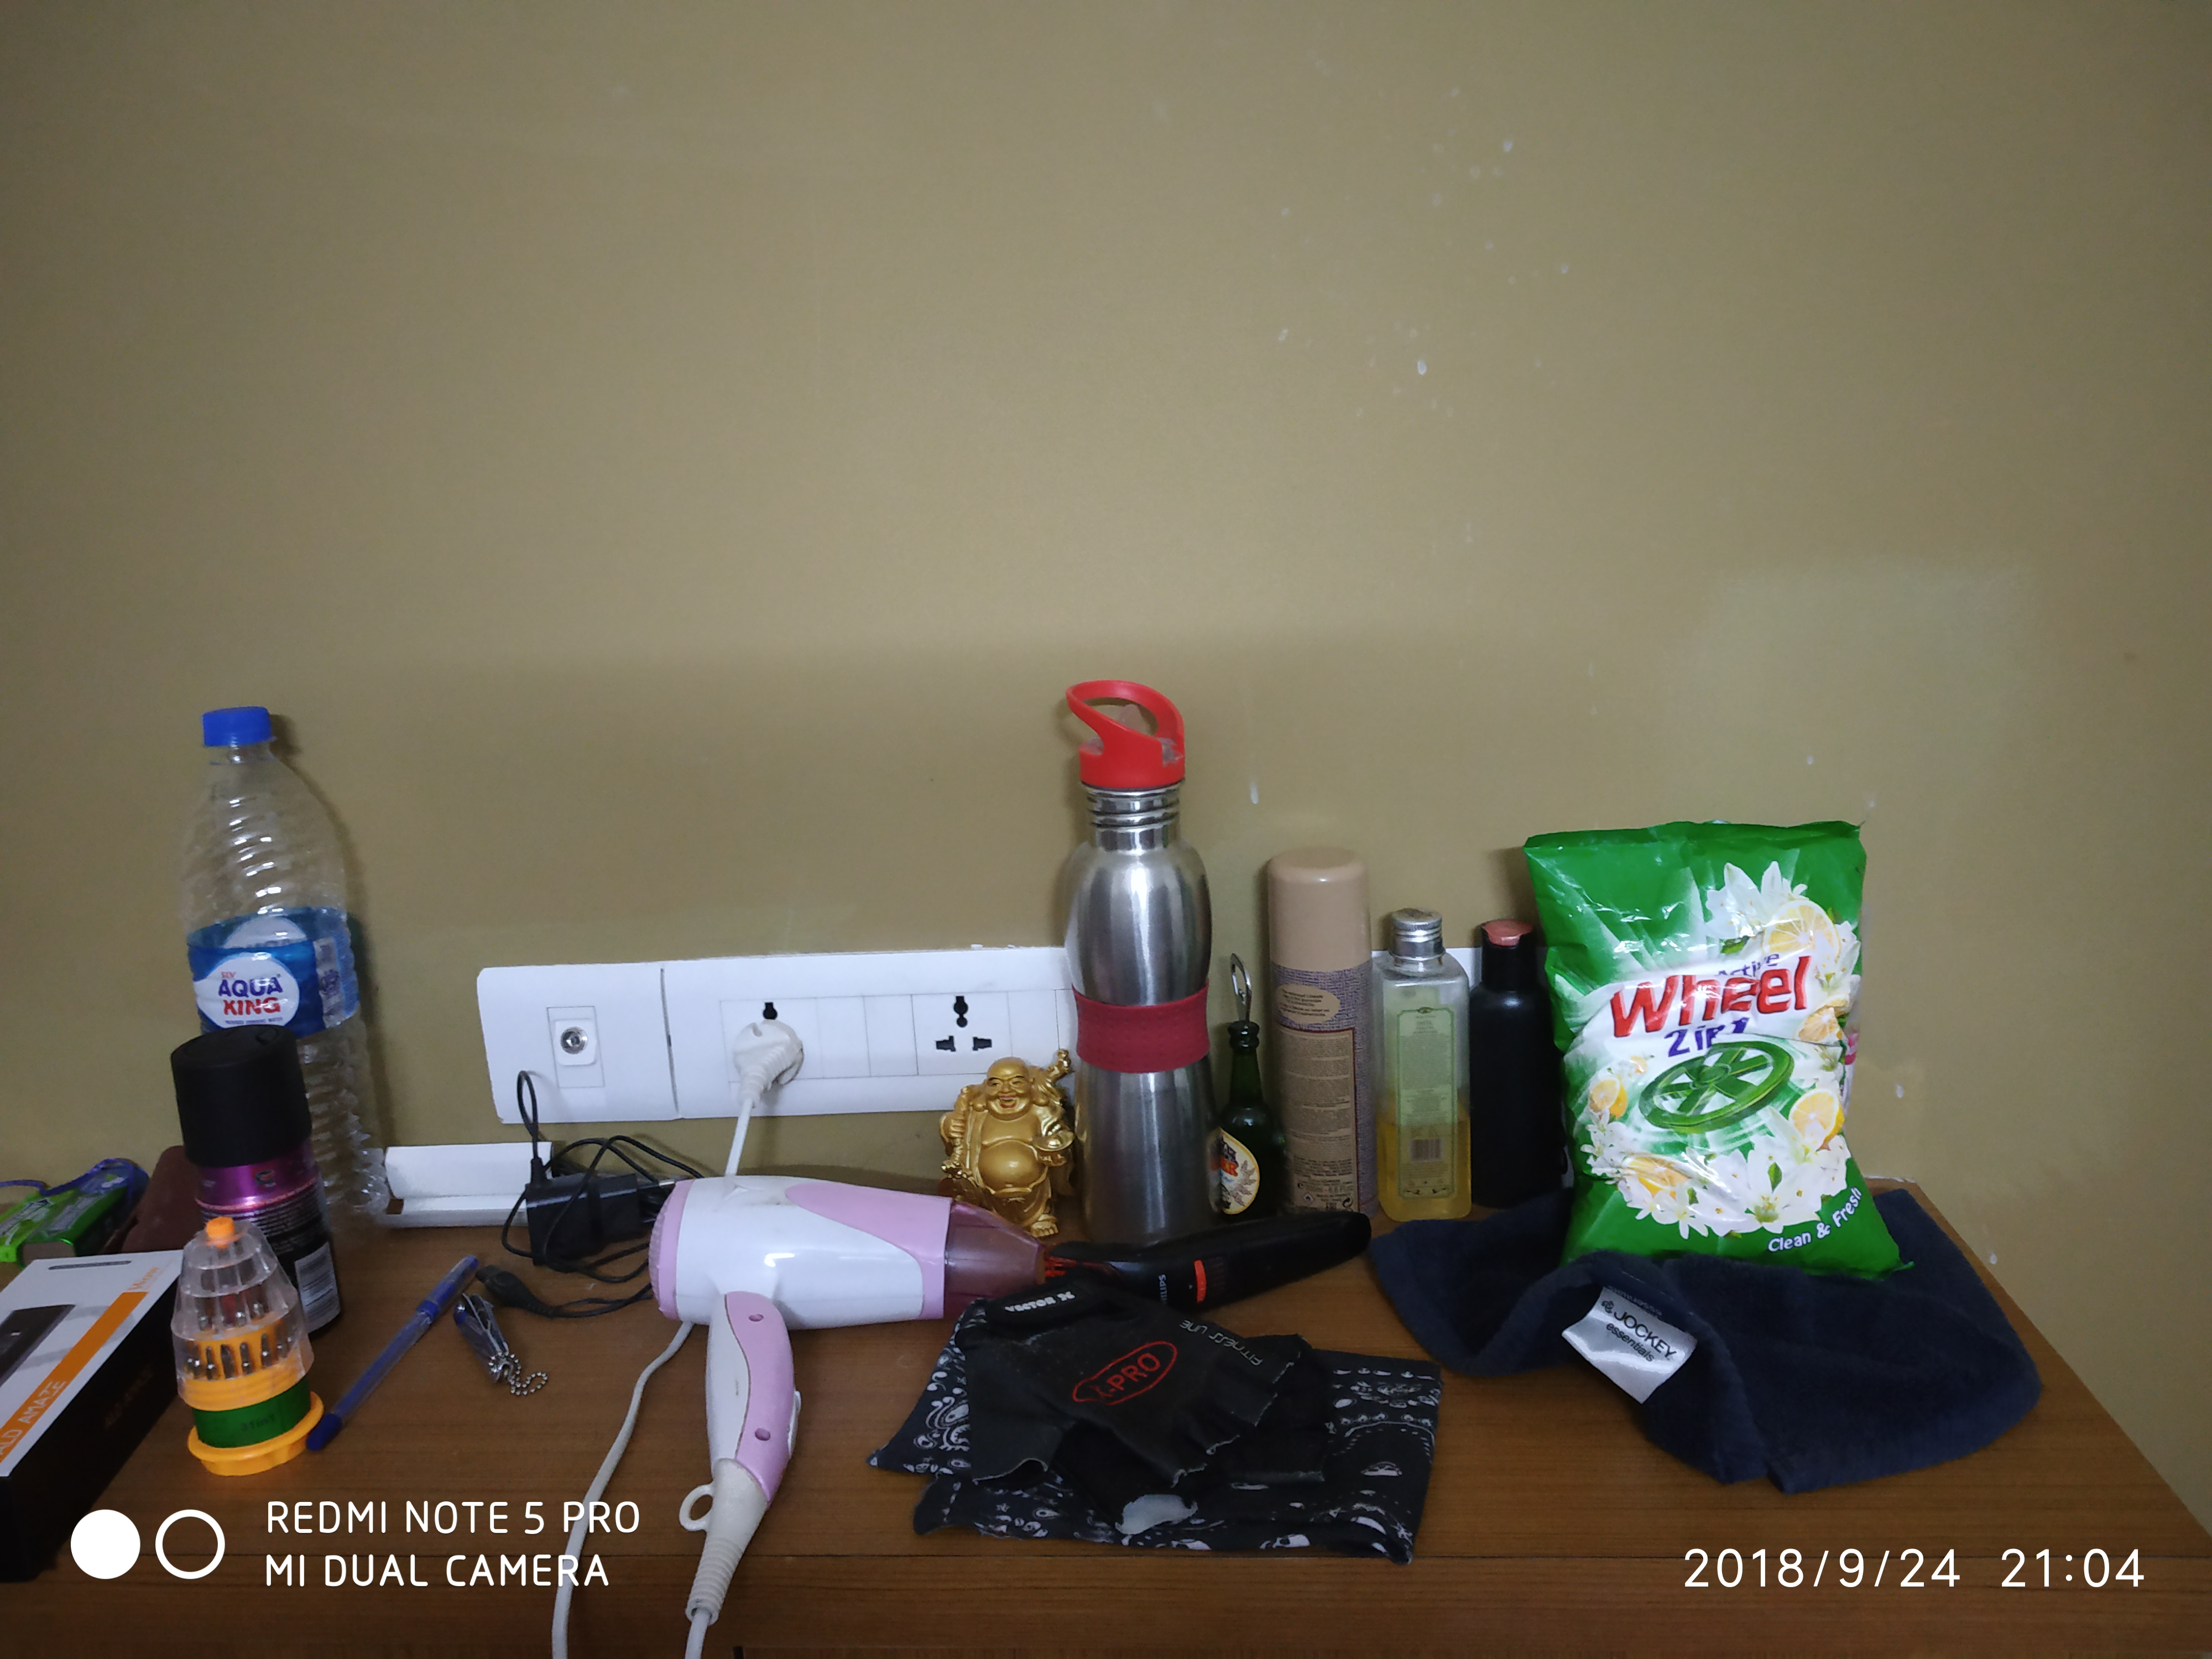detergent: (1524, 816, 1890, 1277)
